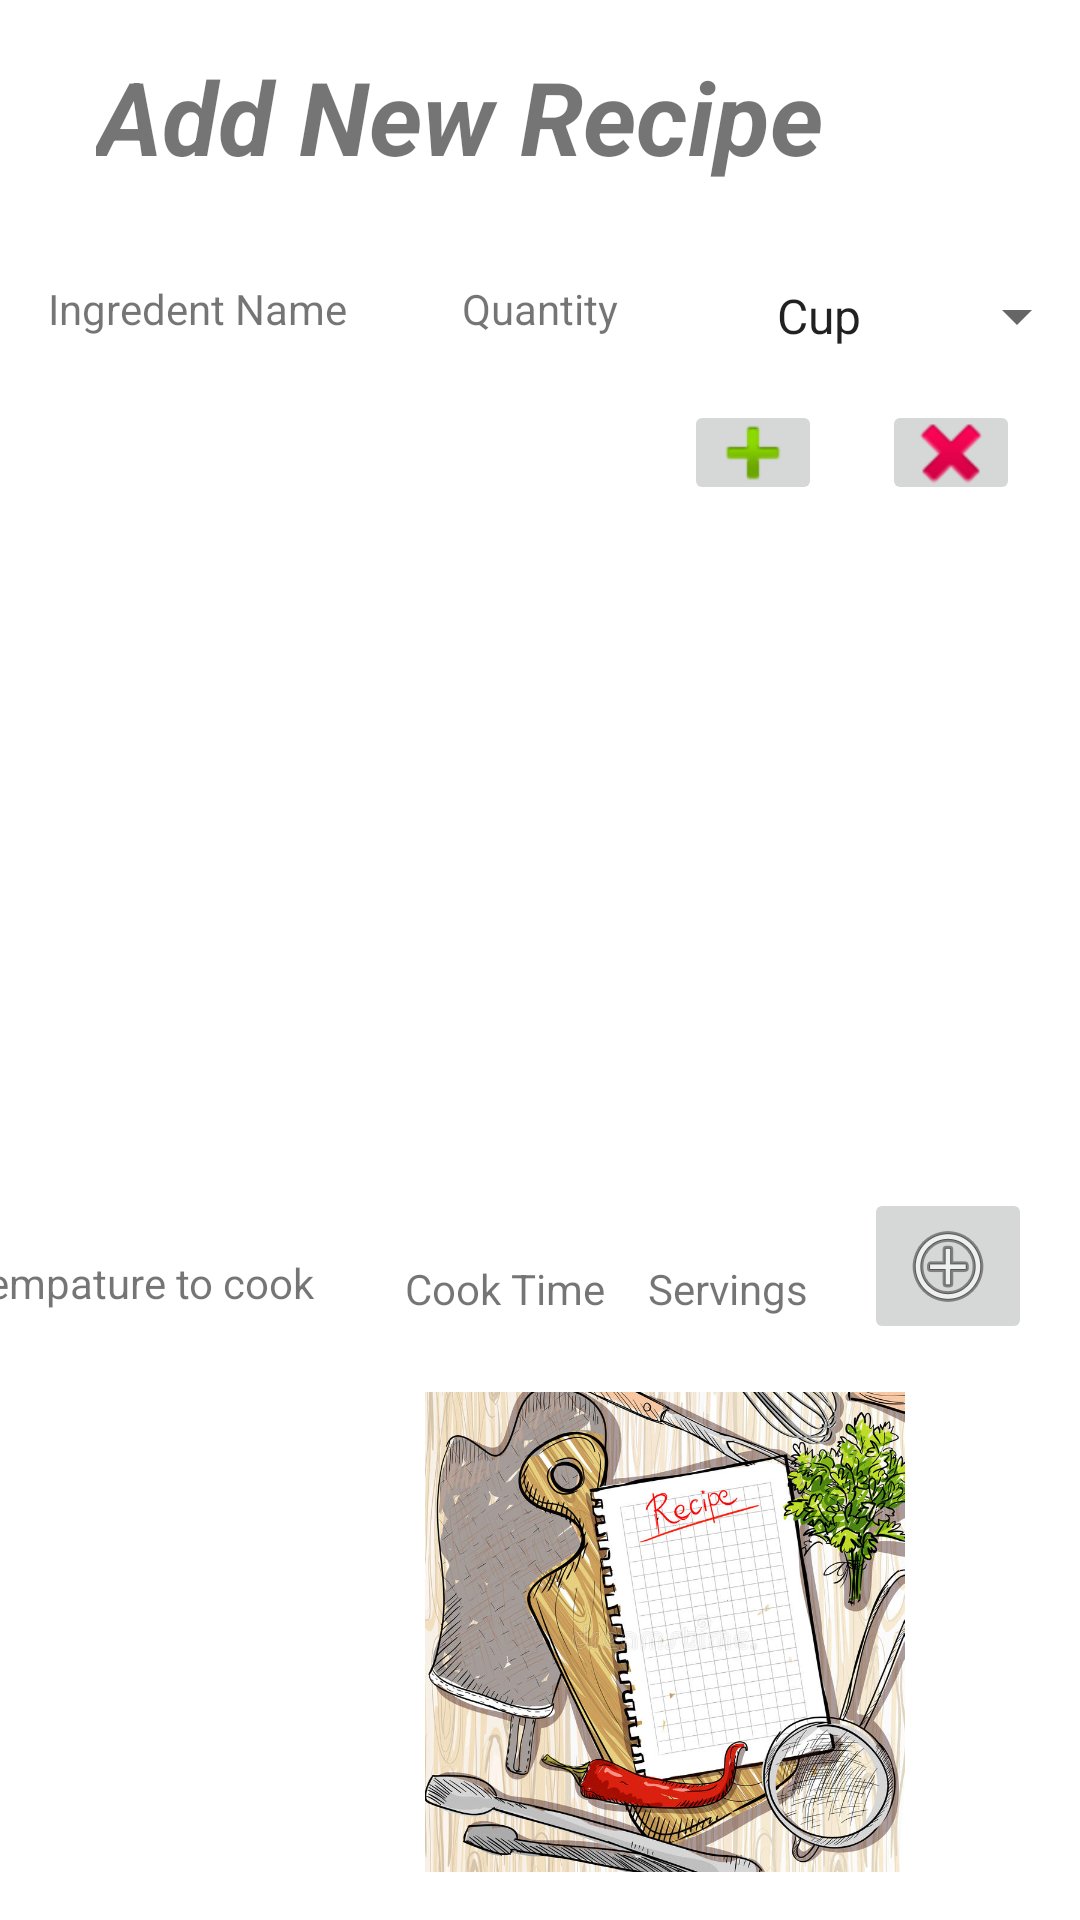

Named icons in this screenshot (1080w x 1920h) and their bounding boxes, (x1, y1, x2, y2):
add: (696, 418, 810, 487), (876, 1206, 1020, 1326)
delete: (894, 418, 1008, 487)
